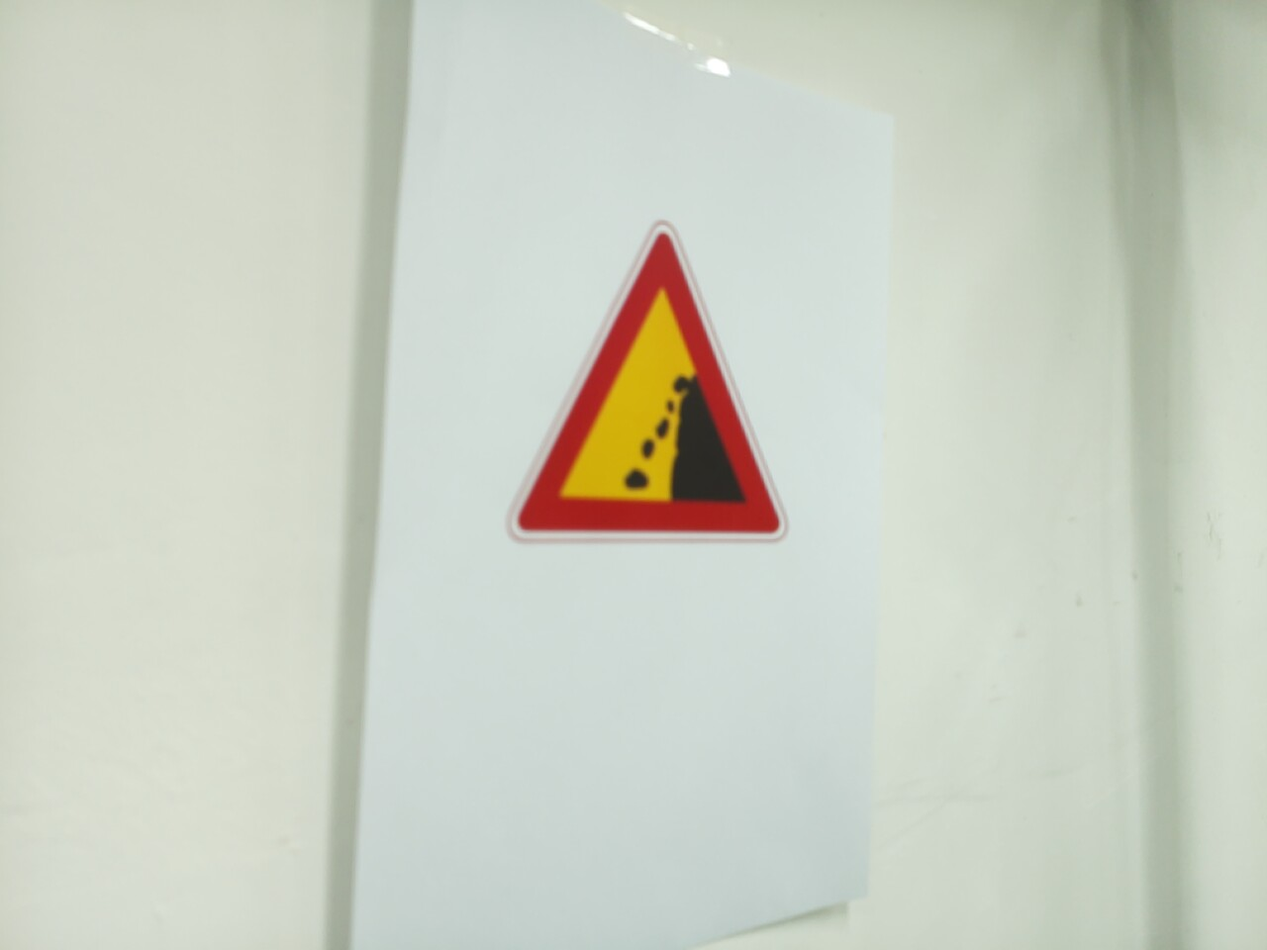falling_rocks: (509, 224, 789, 543)
